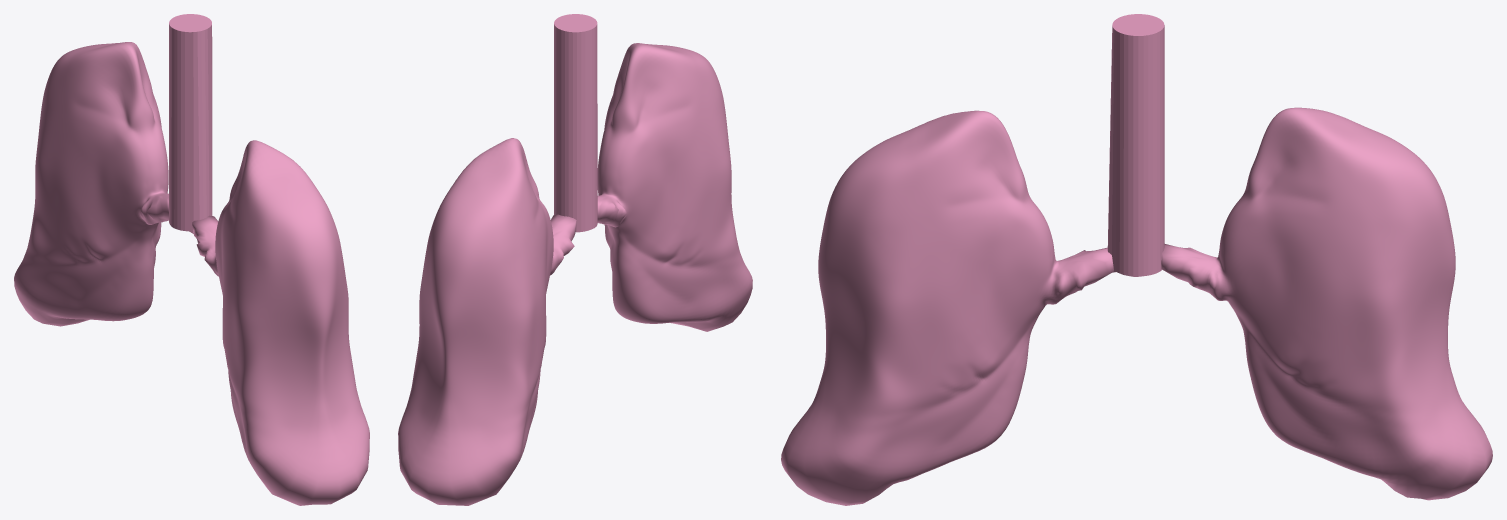
The model's file is lungs.fbx.
3 renders of one model, left to right at view 1: azimuth 30°, elevation 25°; view 2: azimuth 150°, elevation 25°; view 3: azimuth 270°, elevation 25°, orthographic. The views are drawn at different scales.
Parts seen in each view (by area): view 1: Quad Sphere, Quad Sphere.001, Cylinder; view 2: Quad Sphere.001, Quad Sphere, Cylinder; view 3: Quad Sphere, Quad Sphere.001, Cylinder.
Part boxes in pixels (box(x1,y1,x2,y2)): Quad Sphere: box(192, 140, 369, 505); Quad Sphere.001: box(14, 42, 168, 326); Cylinder: box(169, 14, 212, 233); Quad Sphere.001: box(398, 138, 576, 505); Quad Sphere: box(597, 43, 752, 331); Cylinder: box(554, 14, 597, 232); Quad Sphere: box(781, 110, 1113, 505); Quad Sphere.001: box(1161, 107, 1492, 500); Cylinder: box(1107, 14, 1164, 276).
Bounding box in the file's own units: 188 × 596 × 820.
